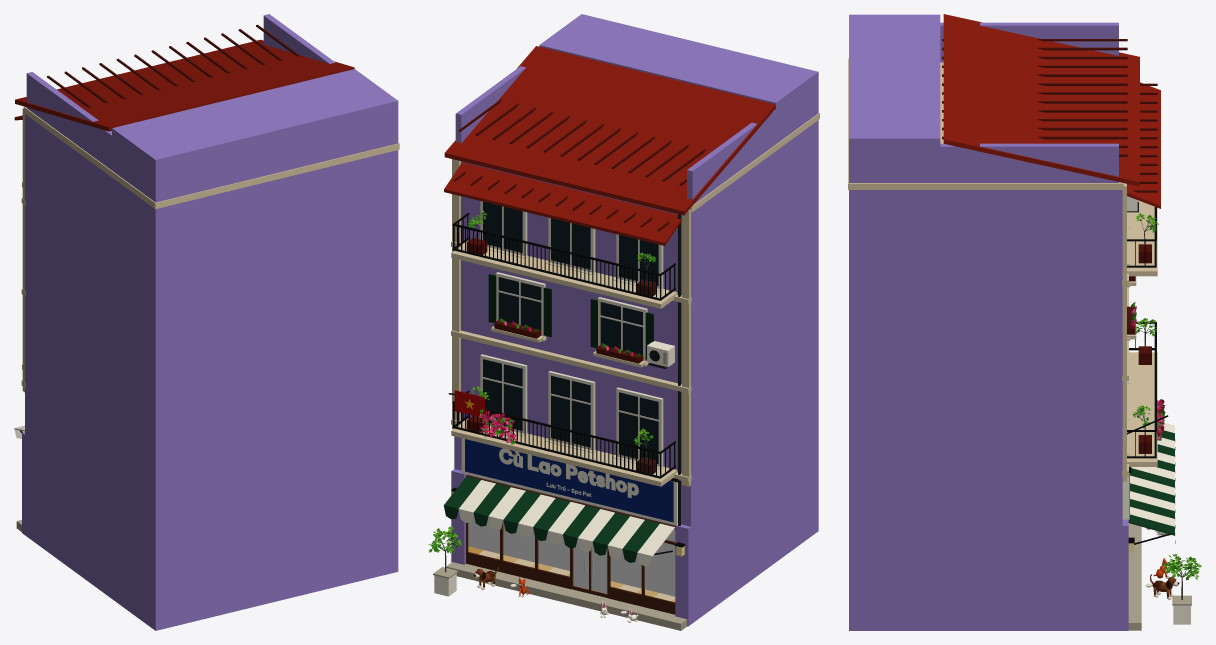
Rendered from PV_StreetShop06_Petshop.fbx.
3 renders of one model, left to right at view 1: azimuth 30°, elevation 25°; view 2: azimuth 150°, elevation 25°; view 3: azimuth 270°, elevation 25°, orthographic. The views are drawn at different scales.
Parts seen in each view (by area): view 1: PV_StreetShop06_Petshop_LOD0; view 2: PV_StreetShop06_Petshop_LOD0; view 3: PV_StreetShop06_Petshop_LOD0.
Part boxes in pixels (x1,y1,x2,y2): PV_StreetShop06_Petshop_LOD0: (14,14,399,630); PV_StreetShop06_Petshop_LOD0: (428,14,819,630); PV_StreetShop06_Petshop_LOD0: (848,14,1201,630).
Size of what is drawn, in the model's own units: 8.46 by 15.5 by 10.09.
Materials: 2 (1 with a texture image).
